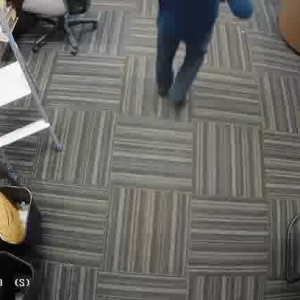person: (150, 0, 250, 107)
